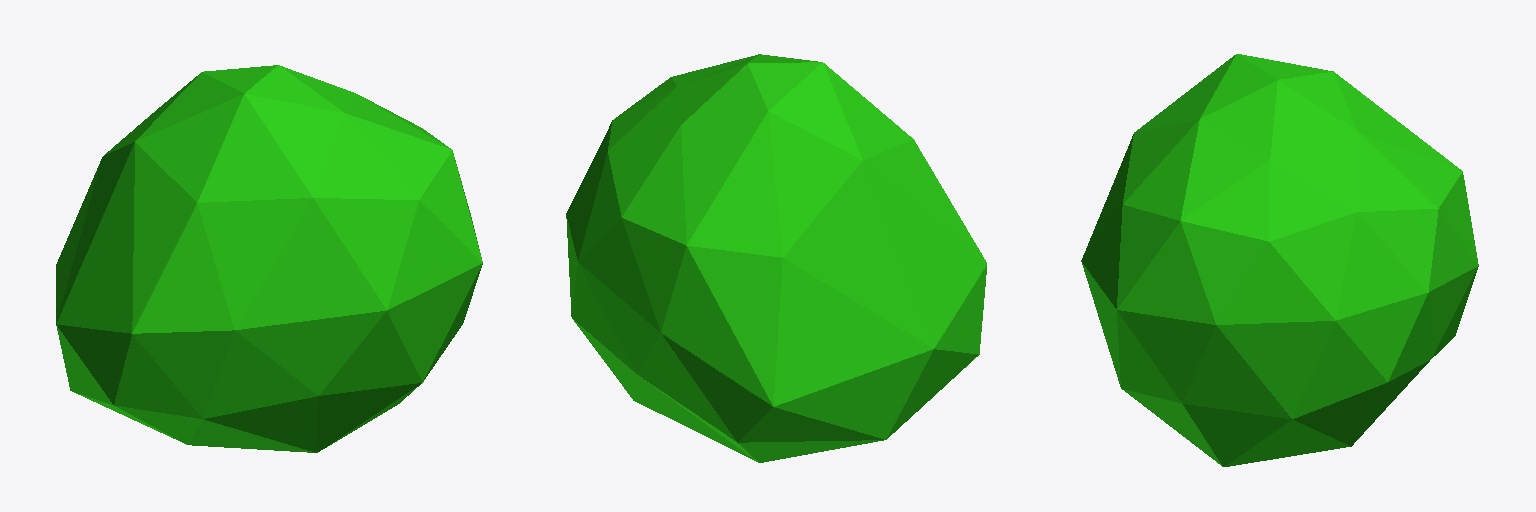
Rendered from Bush.obj.
3 views of the same model, side by side, from view 1: azimuth 30°, elevation 25°; view 2: azimuth 150°, elevation 25°; view 3: azimuth 270°, elevation 25° (orthographic).
Visible parts, largest first — view 1: Bush; view 2: Bush; view 3: Bush.
Boxes of the visible parts, x1=… form: Bush: x1=56, y1=65, x2=482, y2=452; Bush: x1=566, y1=54, x2=986, y2=462; Bush: x1=1081, y1=54, x2=1478, y2=466.
Bounding box in the file's own units: 2.28 × 2.23 × 2.15.